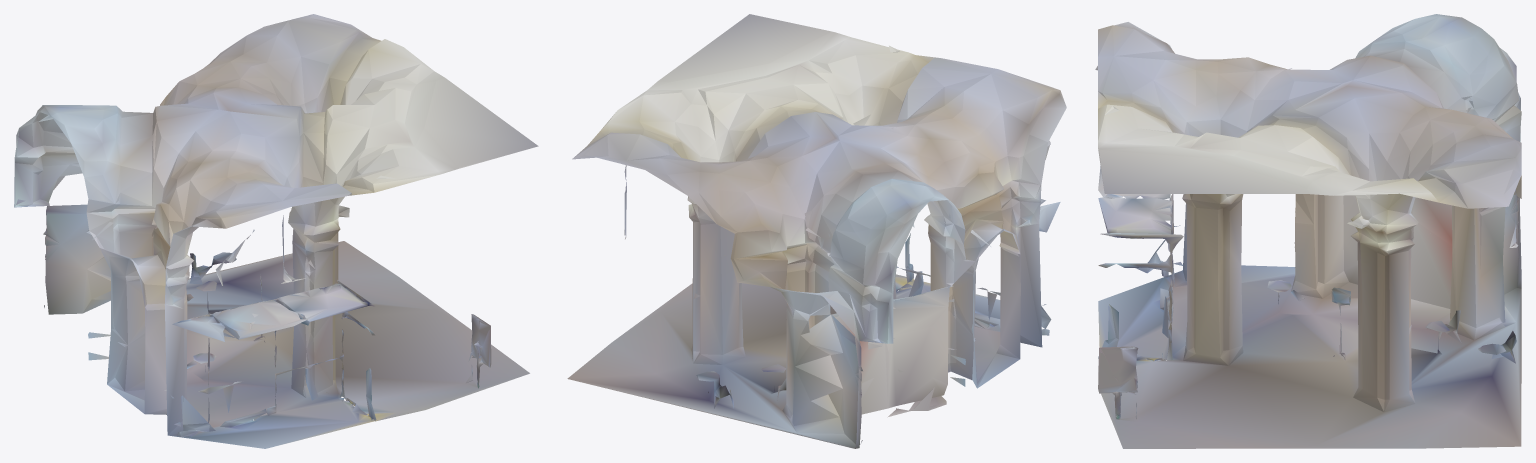
The picture shows the model from 3 angles, left to right: view 1: azimuth 30°, elevation 25°; view 2: azimuth 150°, elevation 25°; view 3: azimuth 270°, elevation 25°; orthographic projection. The views are drawn at different scales.
Bounding box in the file's own units: 10.37 × 7.01 × 10.07.
